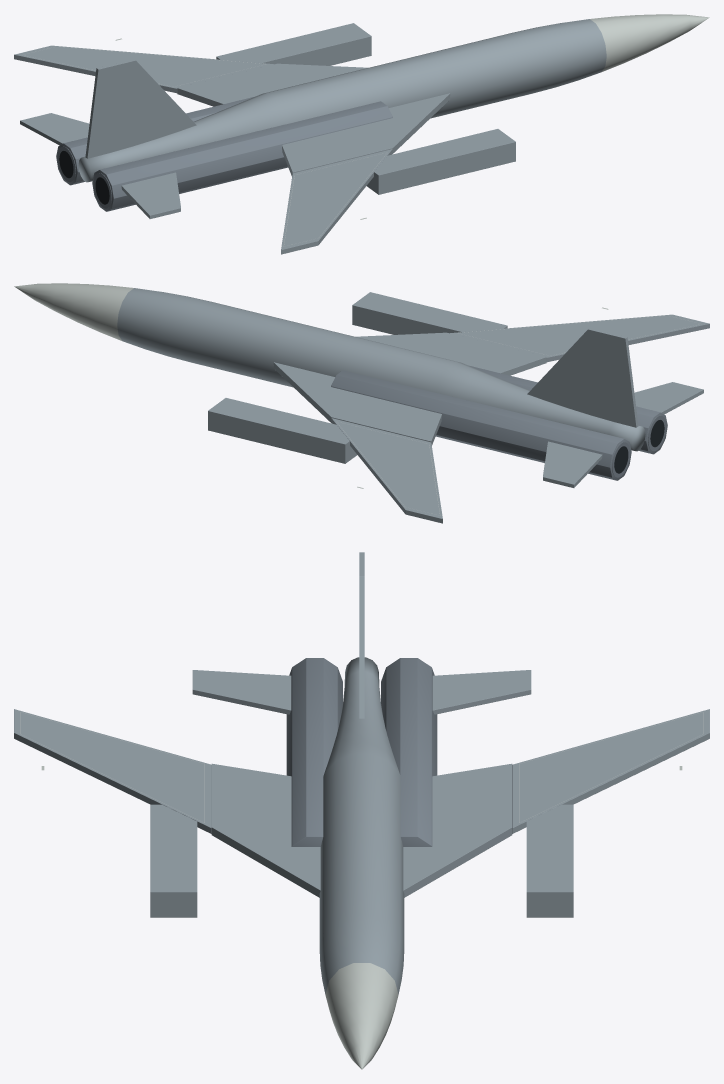
The model's file is rfn_bomber_tu22m3.glb.
3 views of the same model, one above another, from view 1: azimuth 30°, elevation 25°; view 2: azimuth 150°, elevation 25°; view 3: azimuth 270°, elevation 25° (orthographic). The views are drawn at different scales.
Parts seen in each view (by area): view 1: rfn_bomber_tu22m3; view 2: rfn_bomber_tu22m3; view 3: rfn_bomber_tu22m3.
Part boxes in pixels (bbox=[...]): rfn_bomber_tu22m3: bbox=[14, 14, 709, 254]; rfn_bomber_tu22m3: bbox=[14, 283, 709, 523]; rfn_bomber_tu22m3: bbox=[14, 552, 709, 1069].
Bounding box in the file's own units: 10 × 1.94 × 7.39.
